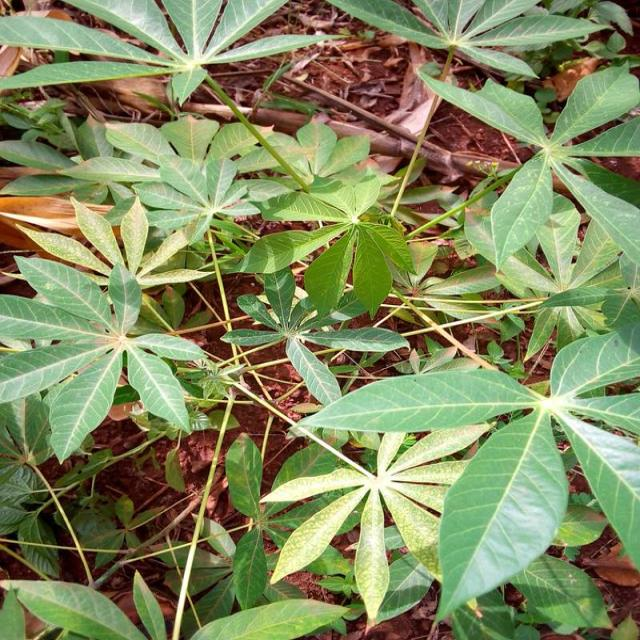cassava leaf: (2, 1, 639, 636), (434, 406, 570, 628), (286, 365, 542, 435)
